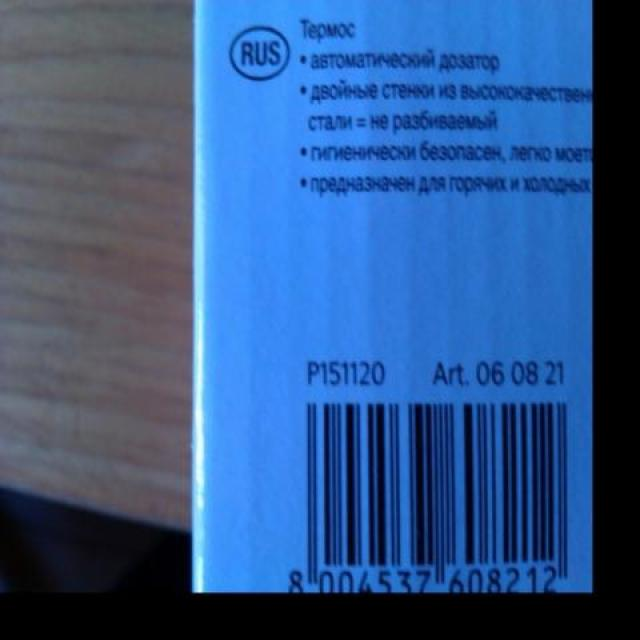Barcode: (285, 390, 578, 586)
